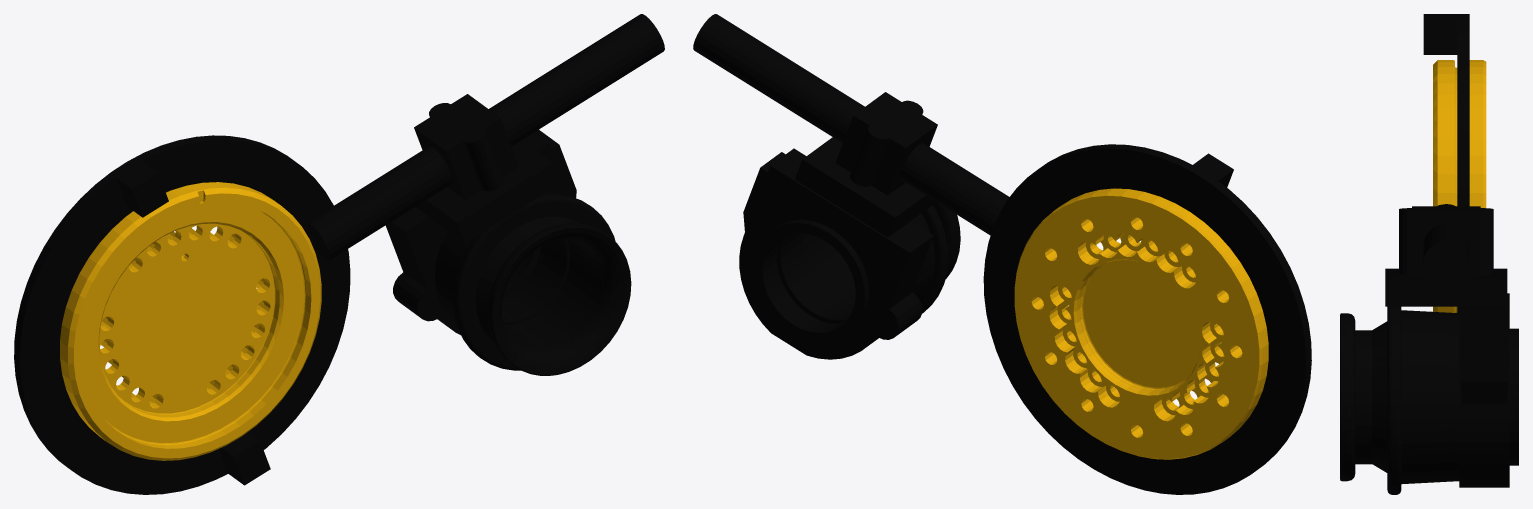
3 views of the same model, side by side, from view 1: azimuth 30°, elevation 25°; view 2: azimuth 150°, elevation 25°; view 3: azimuth 270°, elevation 25° (orthographic). The views are drawn at different scales.
Visible parts, largest first — view 1: ShapeIndexedFaceSet_228, ShapeIndexedFaceSet_070, ShapeIndexedFaceSet_213, ShapeIndexedFaceSet_020, ShapeIndexedFaceSet_009, ShapeIndexedFaceSet_276, ShapeIndexedFaceSet_279, ShapeIndexedFaceSet_263, ShapeIndexedFaceSet_225, ShapeIndexedFaceSet_256, ShapeIndexedFaceSet_300, ShapeIndexedFaceSet_322 (+22 smaller); view 2: ShapeIndexedFaceSet_211, ShapeIndexedFaceSet_207, ShapeIndexedFaceSet_017, ShapeIndexedFaceSet_227, ShapeIndexedFaceSet_254, ShapeIndexedFaceSet_234, ShapeIndexedFaceSet_225, ShapeIndexedFaceSet_285, ShapeIndexedFaceSet_300, ShapeIndexedFaceSet_322, ShapeIndexedFaceSet_323, ShapeIndexedFaceSet_279 (+14 smaller); view 3: ShapeIndexedFaceSet_282, ShapeIndexedFaceSet_281, ShapeIndexedFaceSet_251, ShapeIndexedFaceSet_324, ShapeIndexedFaceSet_233, ShapeIndexedFaceSet_225, ShapeIndexedFaceSet_310, ShapeIndexedFaceSet_008, ShapeIndexedFaceSet_100, ShapeIndexedFaceSet_212, ShapeIndexedFaceSet_245, ShapeIndexedFaceSet_214 (+28 smaller).
Part boxes in pixels (left/top/right/bottom): ShapeIndexedFaceSet_228: left=20, top=139, right=350, bottom=494; ShapeIndexedFaceSet_070: left=99, top=223, right=274, bottom=413; ShapeIndexedFaceSet_213: left=311, top=15, right=664, bottom=259; ShapeIndexedFaceSet_020: left=82, top=203, right=304, bottom=443; ShapeIndexedFaceSet_009: left=74, top=193, right=320, bottom=458; ShapeIndexedFaceSet_276: left=497, top=261, right=630, bottom=374; ShapeIndexedFaceSet_279: left=504, top=239, right=603, bottom=349; ShapeIndexedFaceSet_263: left=461, top=201, right=611, bottom=367; ShapeIndexedFaceSet_225: left=14, top=135, right=295, bottom=413; ShapeIndexedFaceSet_256: left=405, top=143, right=568, bottom=334; ShapeIndexedFaceSet_300: left=414, top=94, right=499, bottom=151; ShapeIndexedFaceSet_322: left=426, top=140, right=552, bottom=222; ShapeIndexedFaceSet_211: left=983, top=148, right=1305, bottom=494; ShapeIndexedFaceSet_207: left=1014, top=195, right=1259, bottom=459; ShapeIndexedFaceSet_017: left=1083, top=260, right=1200, bottom=387; ShapeIndexedFaceSet_227: left=693, top=16, right=1006, bottom=235; ShapeIndexedFaceSet_254: left=739, top=166, right=909, bottom=359; ShapeIndexedFaceSet_234: left=753, top=223, right=864, bottom=342; ShapeIndexedFaceSet_225: left=1042, top=144, right=1311, bottom=415; ShapeIndexedFaceSet_285: left=780, top=233, right=854, bottom=320; ShapeIndexedFaceSet_300: left=853, top=92, right=937, bottom=147; ShapeIndexedFaceSet_322: left=802, top=137, right=925, bottom=217; ShapeIndexedFaceSet_323: left=795, top=159, right=895, bottom=237; ShapeIndexedFaceSet_279: left=801, top=233, right=855, bottom=304; ShapeIndexedFaceSet_282: left=1401, top=310, right=1459, bottom=404; ShapeIndexedFaceSet_281: left=1401, top=404, right=1459, bottom=484; ShapeIndexedFaceSet_251: left=1459, top=405, right=1509, bottom=487; ShapeIndexedFaceSet_324: left=1385, top=279, right=1507, bottom=306; ShapeIndexedFaceSet_233: left=1461, top=321, right=1507, bottom=381; ShapeIndexedFaceSet_225: left=1457, top=14, right=1469, bottom=206; ShapeIndexedFaceSet_310: left=1412, top=212, right=1480, bottom=276; ShapeIndexedFaceSet_008: left=1437, top=74, right=1453, bottom=312; ShapeIndexedFaceSet_100: left=1469, top=74, right=1483, bottom=207; ShapeIndexedFaceSet_212: left=1423, top=241, right=1468, bottom=286; ShapeIndexedFaceSet_245: left=1509, top=328, right=1518, bottom=465; ShapeIndexedFaceSet_214: left=1423, top=17, right=1457, bottom=54.
Bounding box in the file's own units: 0.4981 × 0.117 × 0.2762.
